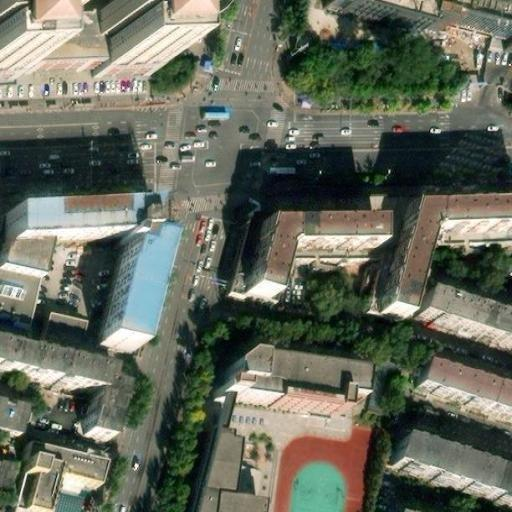building: (380, 210, 512, 315), (333, 0, 512, 60), (237, 228, 369, 308), (0, 340, 111, 434), (170, 384, 248, 512), (217, 346, 358, 400), (390, 429, 494, 490), (103, 232, 162, 338), (11, 197, 151, 233), (422, 293, 512, 349), (73, 17, 150, 77), (6, 19, 88, 65), (413, 354, 489, 403), (22, 426, 107, 468), (9, 227, 69, 285), (155, 0, 206, 68), (13, 440, 95, 482), (341, 0, 420, 35), (39, 311, 85, 353), (24, 475, 56, 512), (480, 378, 512, 414), (484, 462, 512, 500), (0, 21, 18, 76), (9, 472, 30, 512), (139, 45, 150, 61)
